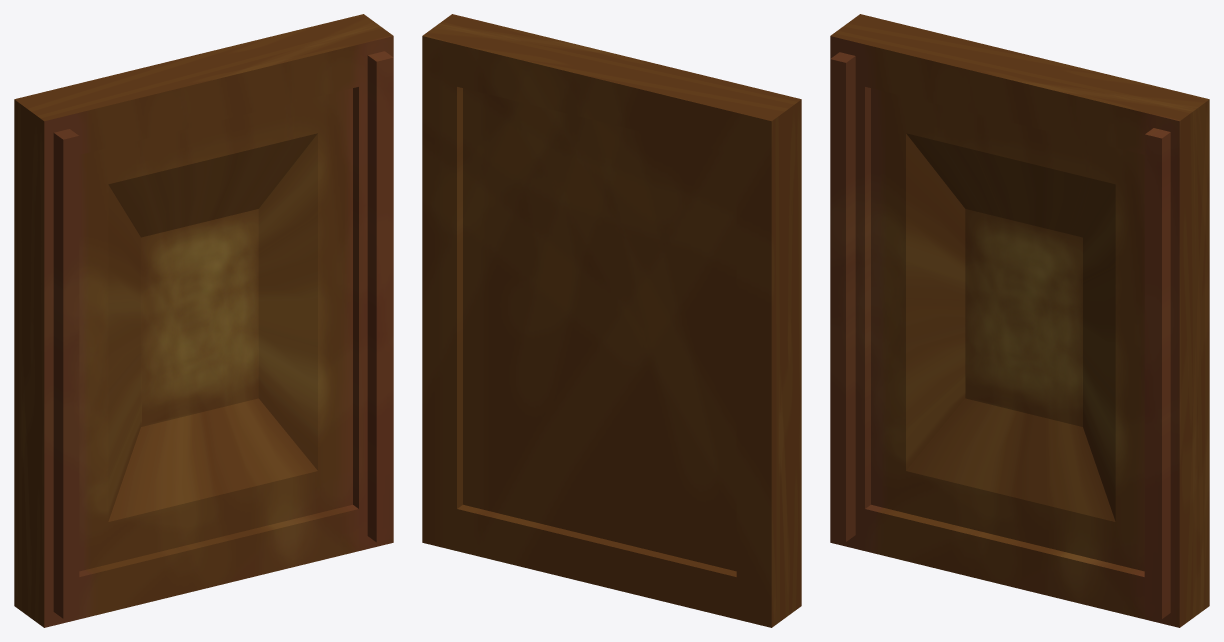
File: Door.fbx
The picture shows the model from 3 angles, left to right: view 1: azimuth 30°, elevation 25°; view 2: azimuth 150°, elevation 25°; view 3: azimuth 330°, elevation 25°; orthographic projection.
Visible parts, largest first — view 1: Door; view 2: Door; view 3: Door.
Boxes of the visible parts, box(x1,y1,x2,y2) form: Door: box(14, 14, 393, 627); Door: box(422, 14, 801, 627); Door: box(830, 14, 1209, 627).
Size of the model in its own units: 1036 by 203 by 1435.
